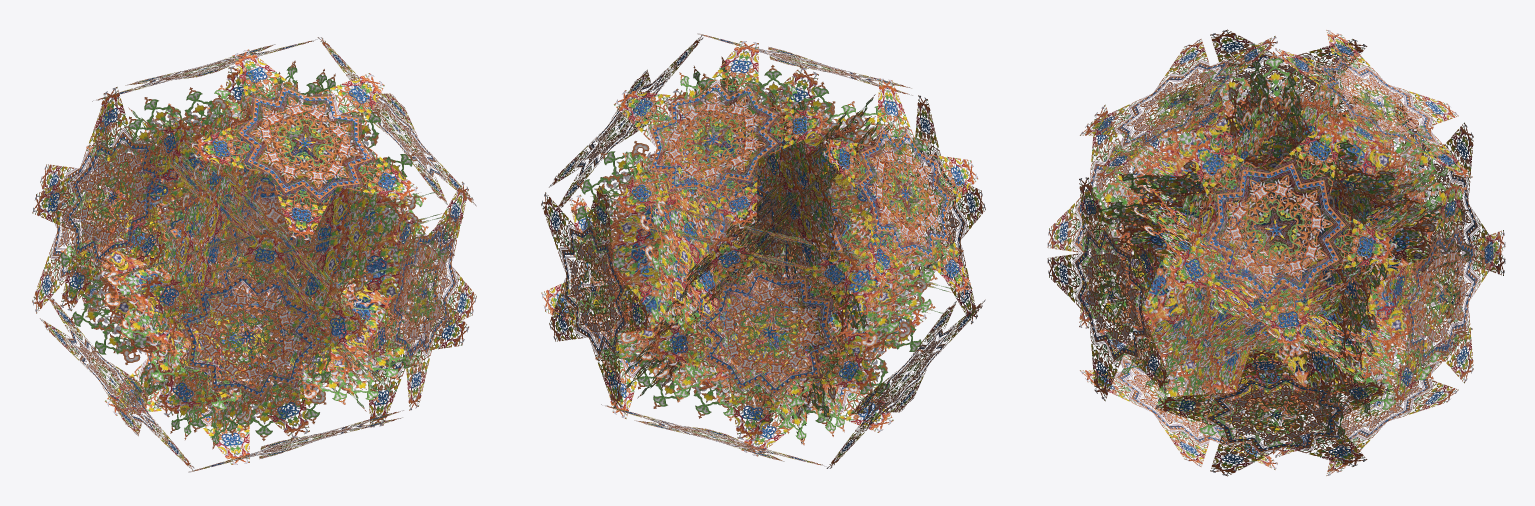
File: 2InvertedSnubDodecadodecahedron.gltf
3 renders of one model, left to right at view 1: azimuth 30°, elevation 25°; view 2: azimuth 150°, elevation 25°; view 3: azimuth 270°, elevation 25°, orthographic.
Parts seen in each view (by area): view 1: InvertedSnubDodecadodecahedron9; view 2: InvertedSnubDodecadodecahedron9; view 3: InvertedSnubDodecadodecahedron9.
Boxes of the visible parts, x1,y1,x2,y2 form: InvertedSnubDodecadodecahedron9: [32, 37, 476, 472]; InvertedSnubDodecadodecahedron9: [541, 33, 985, 468]; InvertedSnubDodecadodecahedron9: [1047, 29, 1505, 476].
Bounding box in the file's own units: 1.69 × 1.69 × 1.69.
Materials: 1 (1 with a texture image).
